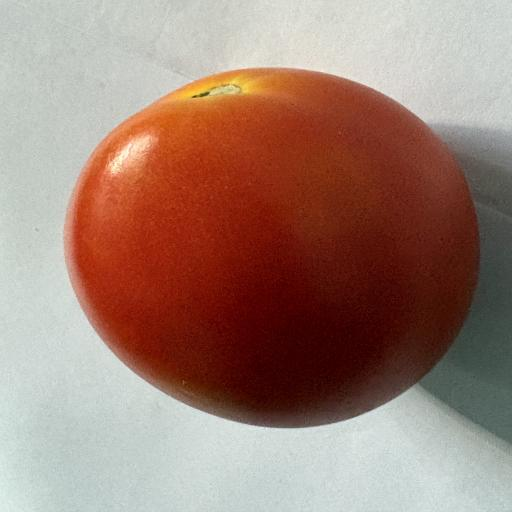ripe: (65, 68, 479, 427)
